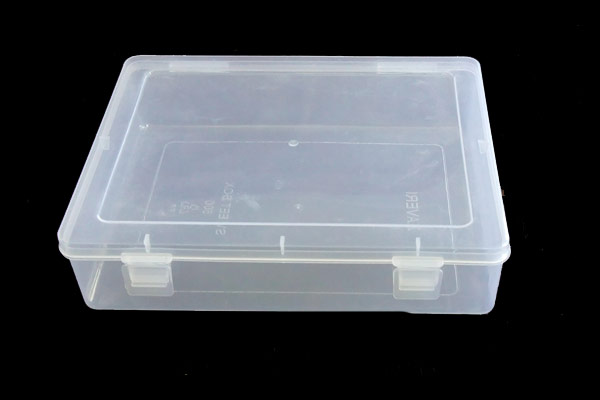PlasticBox: (54, 46, 513, 323)
